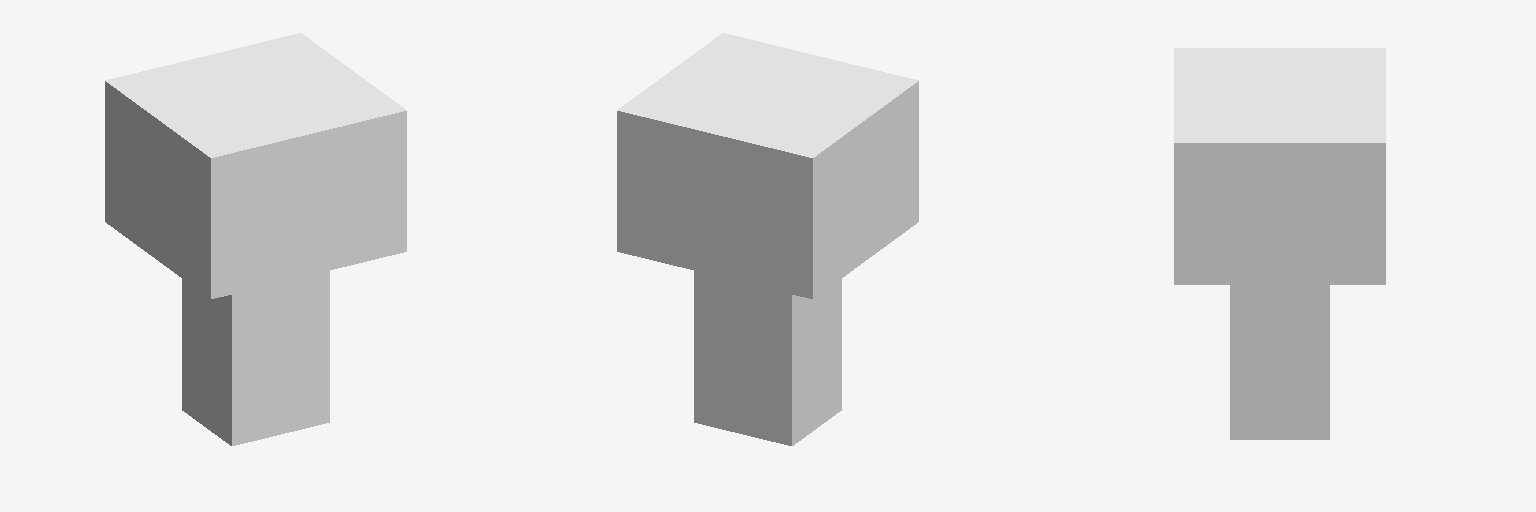
The model's file is treeSmall.obj.
3 views of the same model, side by side, from view 1: azimuth 30°, elevation 25°; view 2: azimuth 150°, elevation 25°; view 3: azimuth 270°, elevation 25° (orthographic).
Parts seen in each view (by area): view 1: treeSmall; view 2: treeSmall; view 3: treeSmall.
Part boxes in pixels (x1,y1,x2,y2): treeSmall: (105, 33, 406, 445); treeSmall: (617, 33, 918, 445); treeSmall: (1174, 48, 1385, 439).
Size of the model in its own units: 16 by 25 by 15.